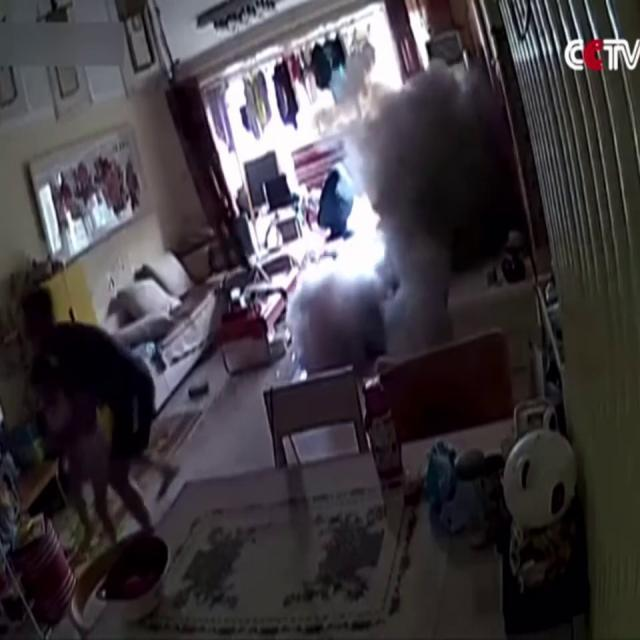Smoke: (321, 44, 508, 378)
